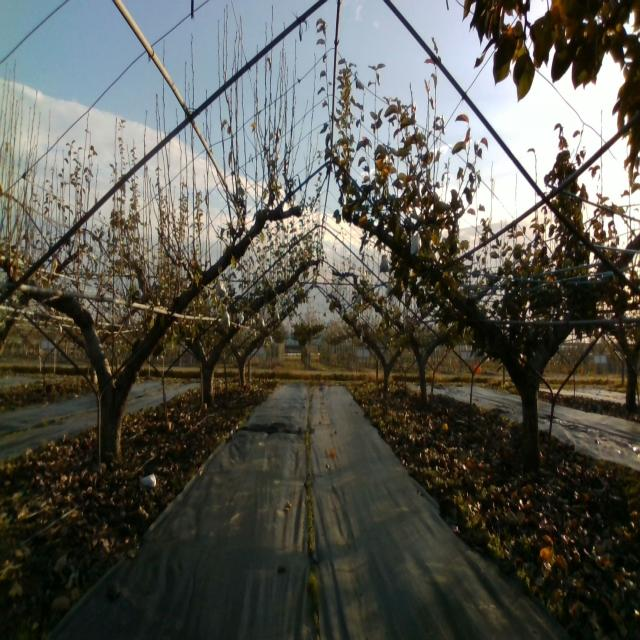pearbags: (410, 230, 422, 258)
